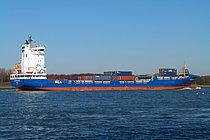Ship: (7, 33, 202, 94)
